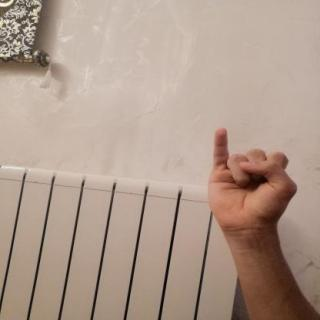MEEM: (196, 119, 309, 238)
